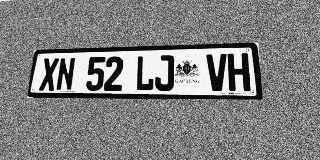2: (104, 56, 124, 91)
5: (86, 57, 106, 91)
H: (227, 53, 251, 91)
J: (154, 55, 174, 91)
L: (135, 55, 155, 91)
N: (55, 57, 76, 91)
V: (206, 54, 228, 91)
X: (39, 58, 59, 91)
